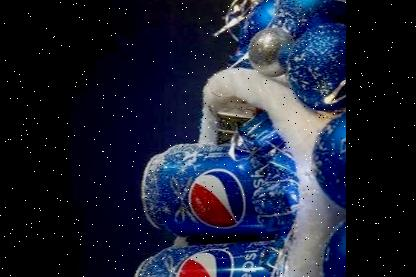Can: (140, 138, 301, 239), (130, 235, 274, 277)
